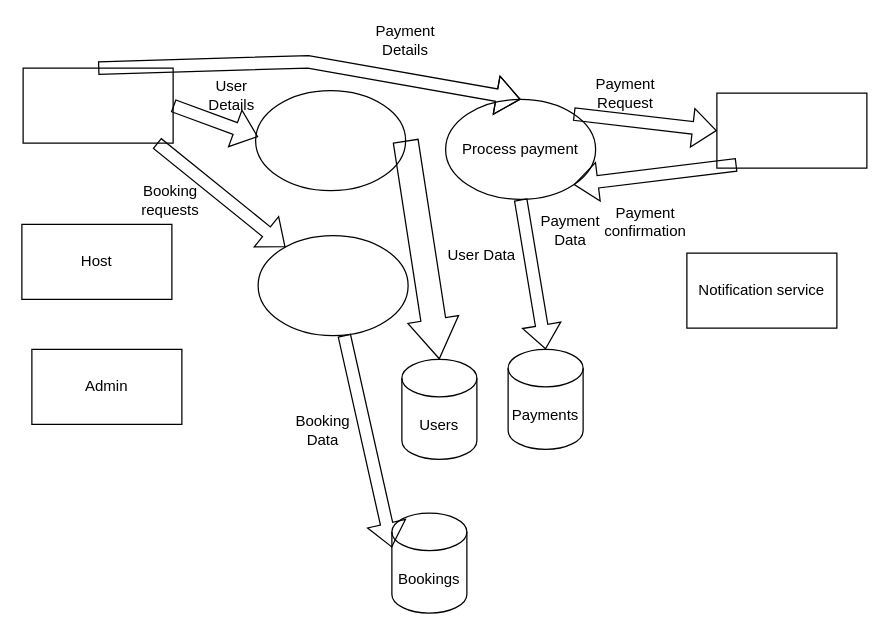
The diagram is 889 pixels wide and 635 high, and some of its shapes have lost their labels. The shapes that lost their labels are listed below. From the top down, each one's centre as x and y in pixels, then its label:
point 97,105: Guest
point 330,140: Register User
point 791,130: Payment Gateway
point 332,285: Create booking
